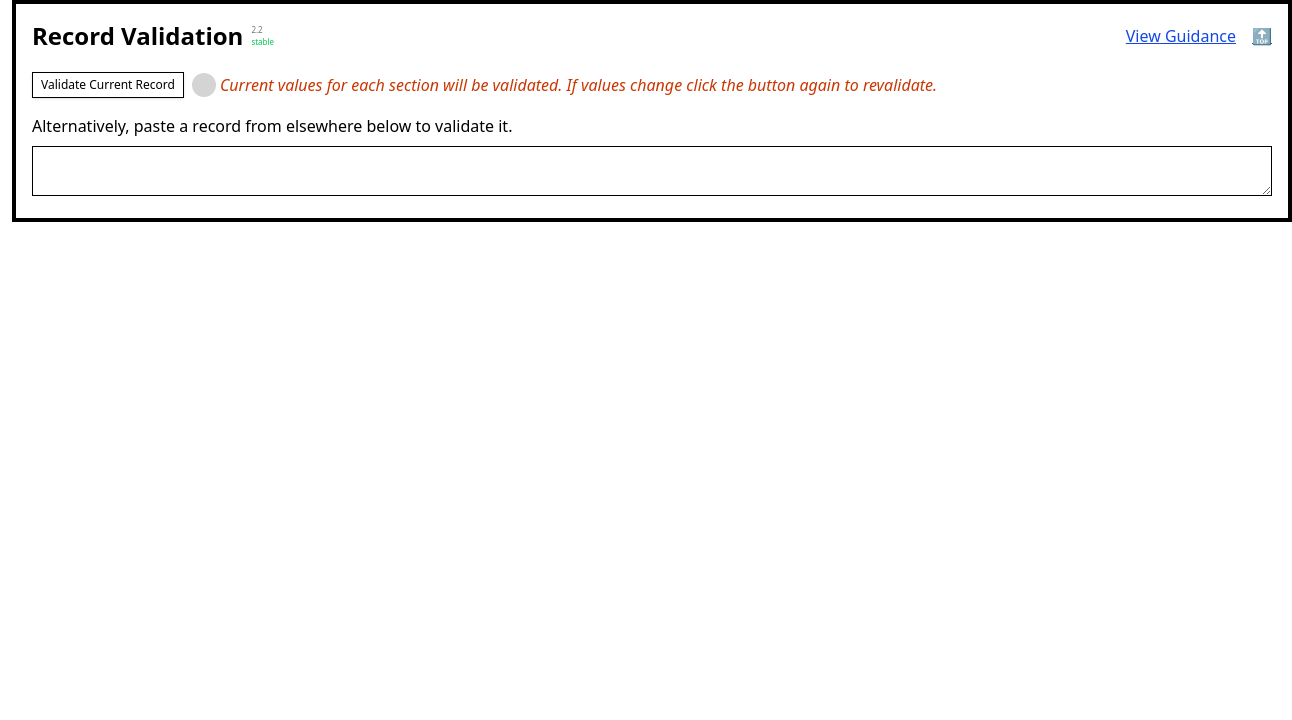
Test case: RecordValidation › renders correctly with invalid user input
The image size is (1292, 720).
Type "[]" into the text box. click: [652, 171]
box: [32, 146, 1272, 196]
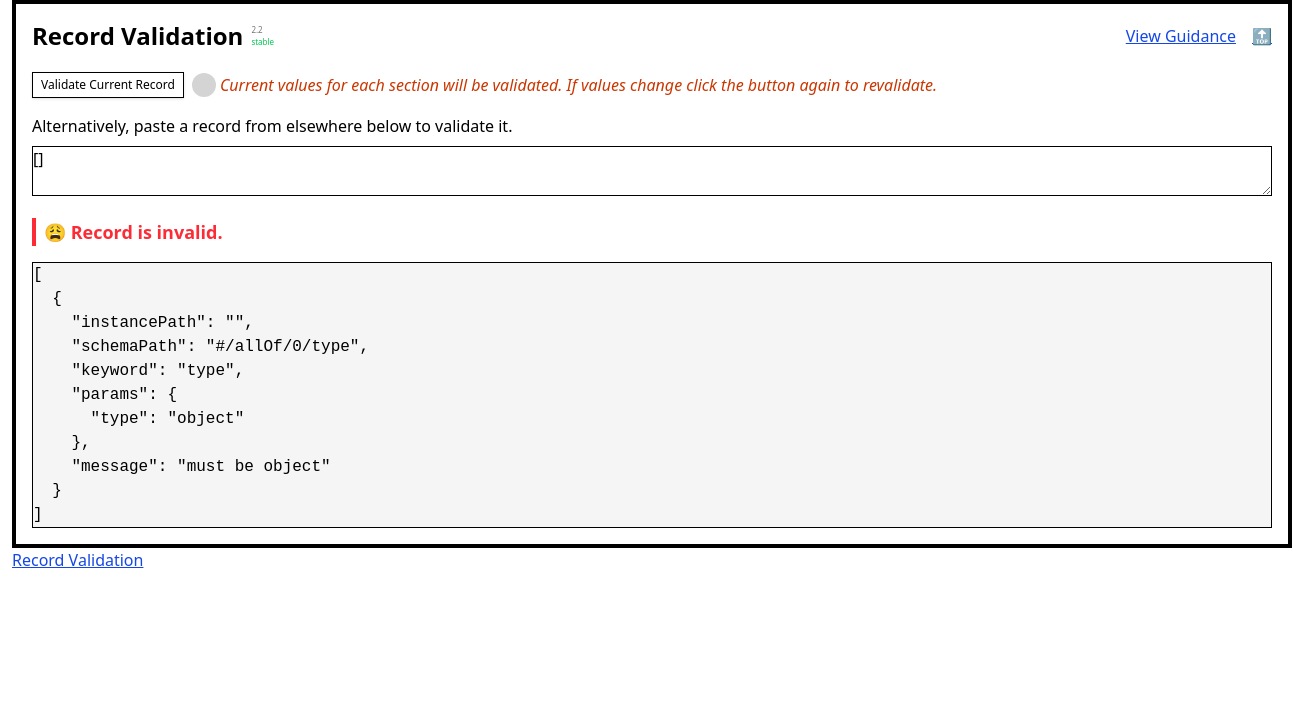
Check: the text "😩 Record is invalid." is shown, box [32, 218, 1272, 246]
